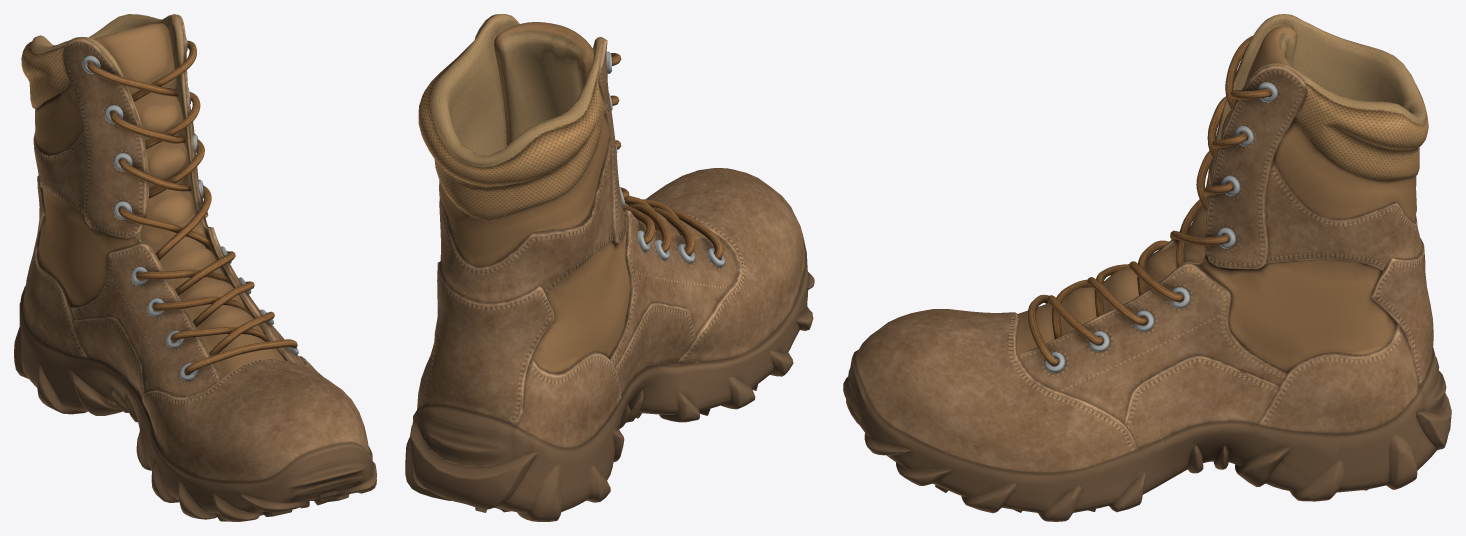
The model's file is junxue.glb.
3 views of the same model, side by side, from view 1: azimuth 30°, elevation 25°; view 2: azimuth 150°, elevation 25°; view 3: azimuth 270°, elevation 25° (orthographic). The views are drawn at different scales.
Parts seen in each view (by area): view 1: junxue_low; view 2: junxue_low; view 3: junxue_low.
Boxes of the visible parts, x1,y1,x2,y2 form: junxue_low: (14,14,376,521); junxue_low: (405,14,814,521); junxue_low: (843,14,1451,521).
Size of the model in its own units: 10.73 by 21.08 by 27.12.
Materials: 1 (1 with a texture image).
